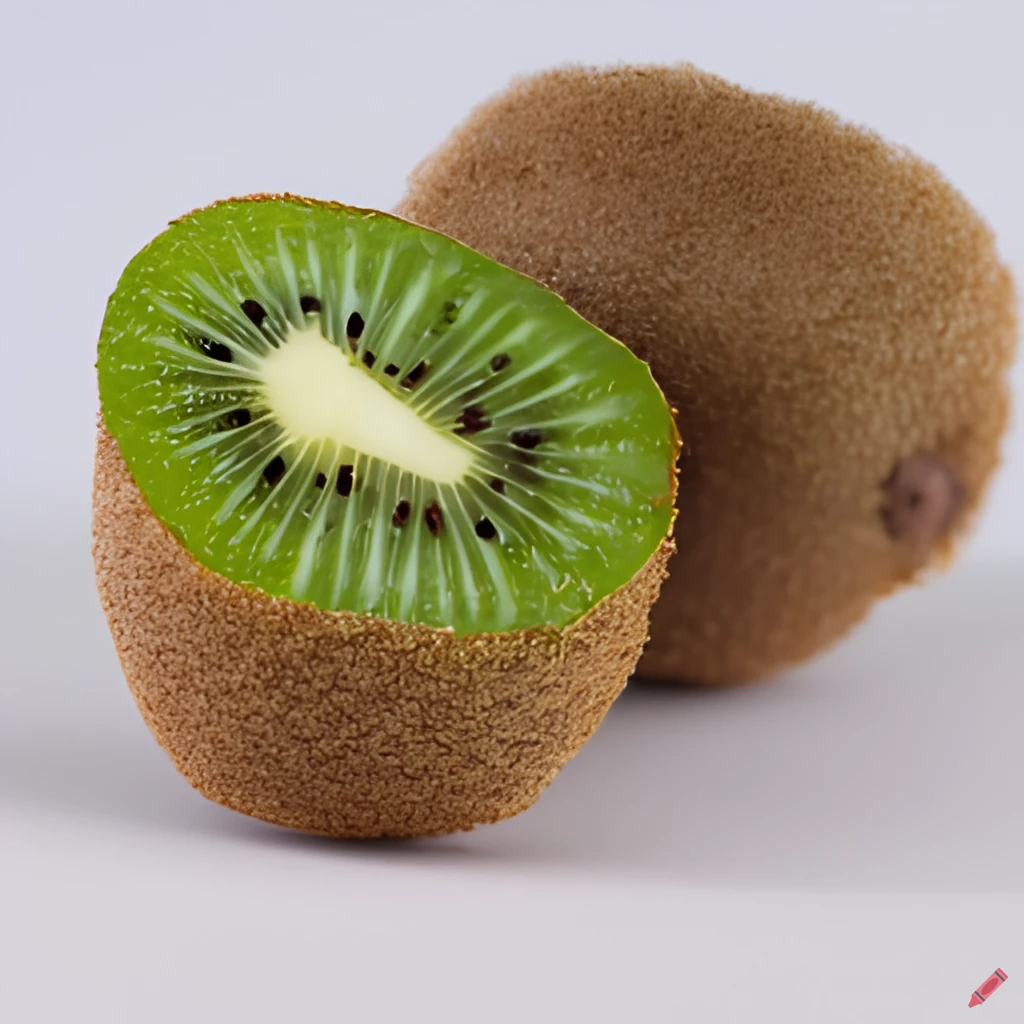Kiwi: (92, 184, 698, 870), (364, 62, 1004, 692)
